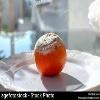Orange Rotten: (33, 30, 72, 78)
